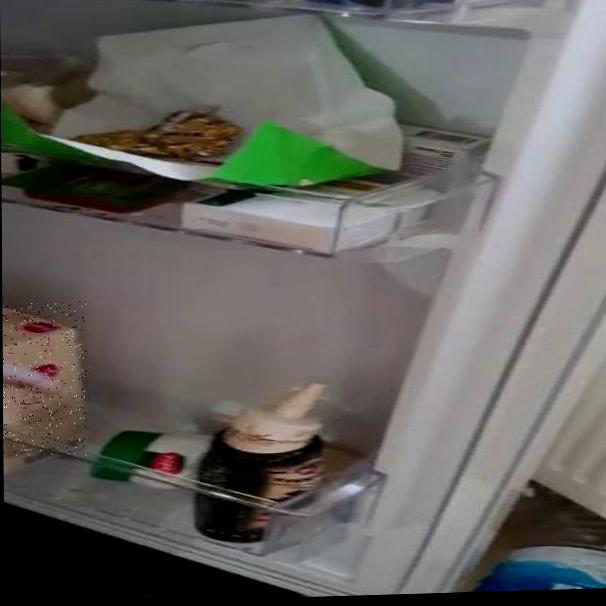milk: (2, 302, 87, 458)
